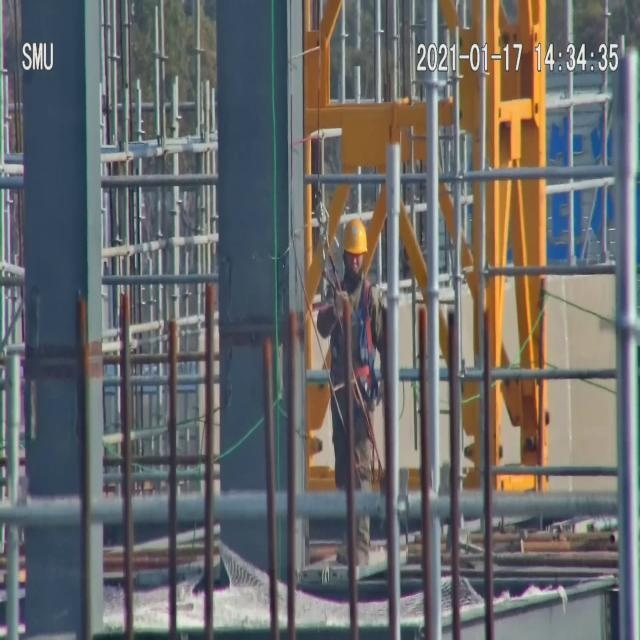Arnes_seguridad: (330, 274, 379, 415)
